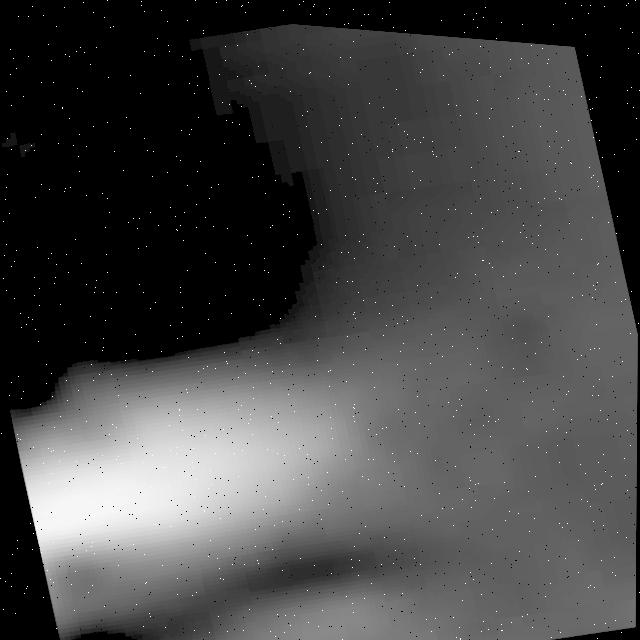person: (7, 308, 424, 619)
